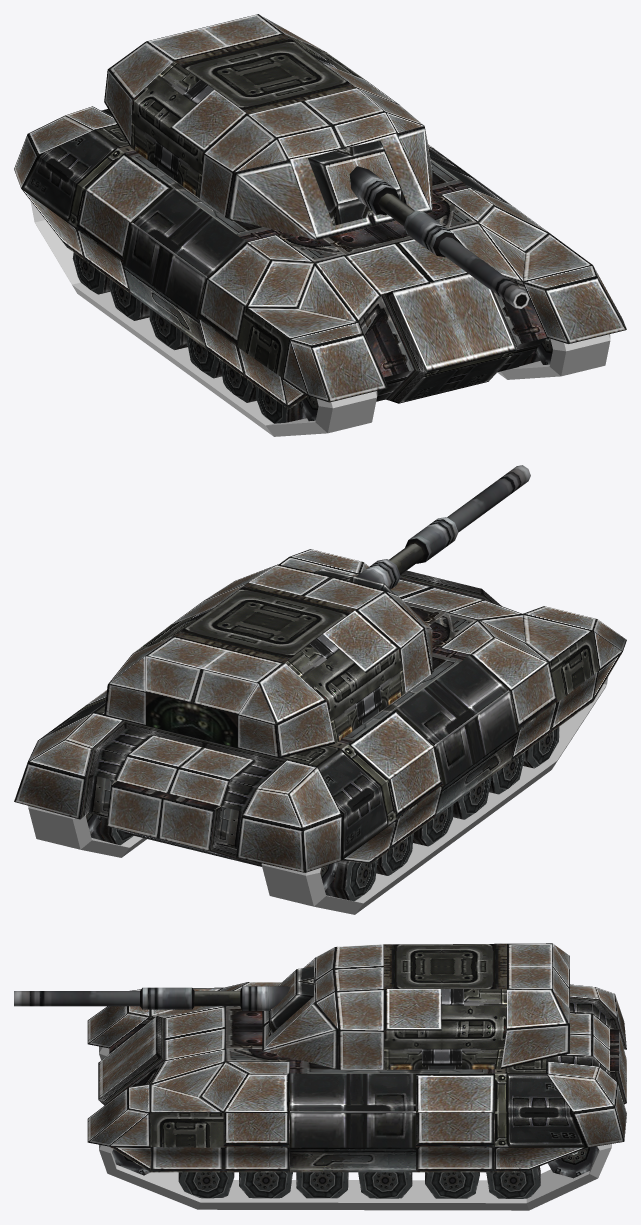
The model's file is tank-01_fbx.FBX.
3 renders of one model, top to bottom at view 1: azimuth 30°, elevation 25°; view 2: azimuth 150°, elevation 25°; view 3: azimuth 270°, elevation 25°, orthographic. The views are drawn at different scales.
Parts seen in each view (by area): view 1: body, tower, treads_R, barrel, treads_L, wheel_10, wheel_14, wheel_13, wheel_15, wheel_11, wheel_12; view 2: body, tower, treads_R, barrel, treads_L, wheel_15, wheel_13, wheel_12, wheel_14, wheel_11, wheel_10; view 3: body, tower, treads_L, barrel, wheel_08, wheel_06, wheel_07, wheel_05, wheel_04, wheel_01, wheel_03.
Boxes of the visible parts, x1,y1,x2,y2 form: body: (14,106,626,409); tower: (104,14,432,239); treads_R: (30,201,377,436); barrel: (349,166,529,308); treads_L: (497,334,610,379); wheel_10: (255,386,306,423); wheel_14: (109,279,149,320); wheel_13: (149,308,187,350); wheel_15: (72,252,110,294); wheel_11: (220,360,256,402); wheel_12: (186,335,222,378); body: (14,549,626,872); tower: (104,564,432,758); treads_R: (261,677,607,914); barrel: (356,465,530,589); treads_L: (28,806,146,857); wheel_15: (325,860,377,901); wheel_13: (413,804,453,846); wheel_12: (453,776,491,819); wheel_14: (376,833,413,875); wheel_11: (489,752,525,794); wheel_10: (523,727,559,768); body: (87,982,626,1172); tower: (262,943,569,1069); treads_L: (99,1144,611,1210); barrel: (14,986,290,1010); wheel_08: (486,1166,540,1198); wheel_06: (358,1172,412,1198); wheel_07: (425,1172,479,1198); wheel_05: (296,1172,348,1198); wheel_04: (239,1172,292,1198); wheel_01: (178,1172,234,1198); wheel_03: (548,1146,598,1178).
Size of the model in its own units: 7.88 by 5.21 by 15.49.
